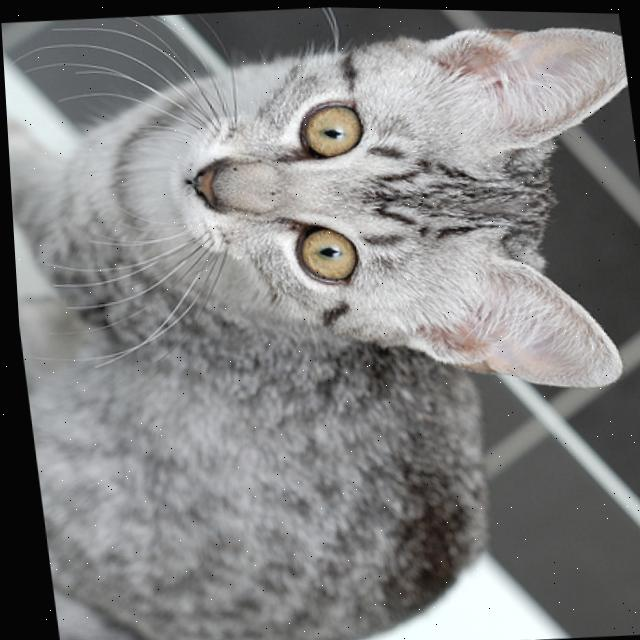Egyptian Mau: (0, 5, 640, 640)
